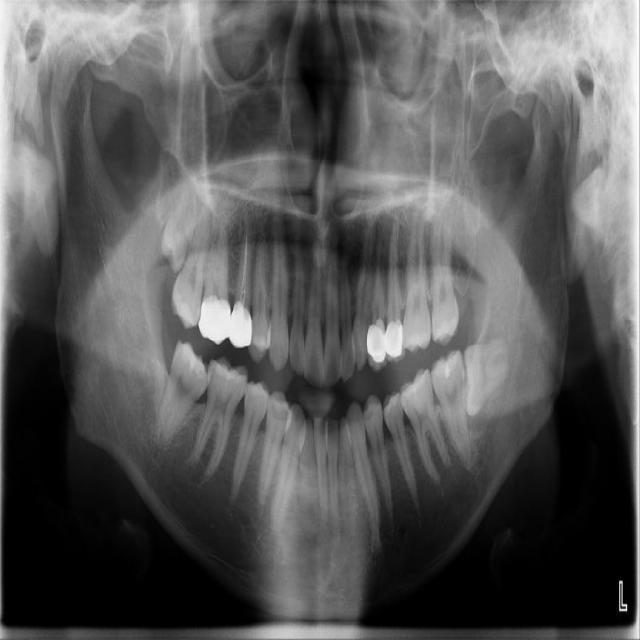3M ESPE Implant: (154, 174, 207, 274)
52: (160, 334, 222, 403), (425, 348, 469, 395), (198, 295, 231, 344), (365, 323, 388, 375), (228, 302, 253, 349), (382, 319, 407, 364)
73: (234, 211, 253, 313), (574, 574, 580, 586)
BioHorizons Implant: (430, 203, 459, 348)
Biomet 3i Implant: (462, 340, 509, 417)
Blue Sky Bio Implant: (428, 349, 473, 470)
Caries: (167, 196, 215, 332)
Implant: (150, 338, 220, 453)
